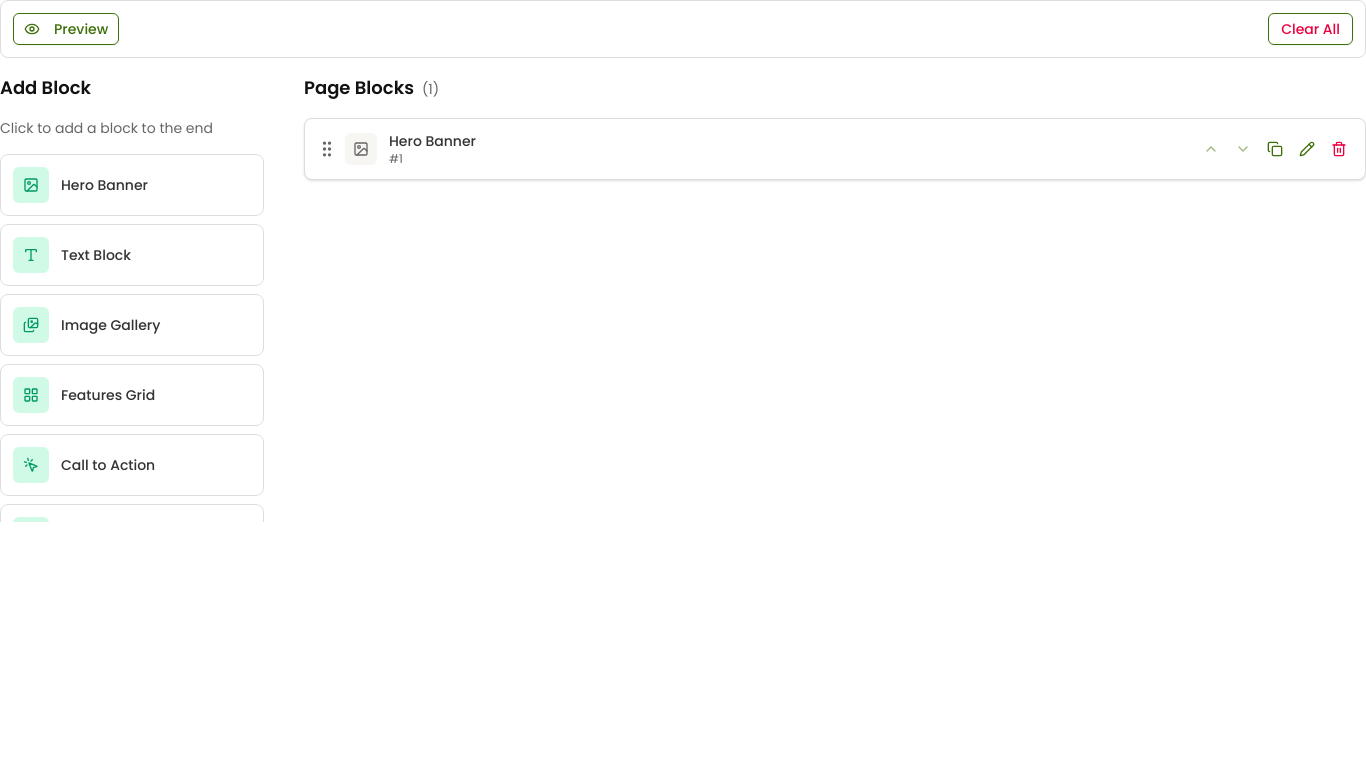
Test: Bug Condition Exploration: CMS Block Data Display in Admin UI › Property 1: Bug Condition - Regular Block Fields Should Display Actual Content › should display hero block title and subtitle in UI editor fields when block has populated data
Note: Open the block for editing
Click the button titled "Edit Block": x=1307, y=149 [1293,135,1321,163]
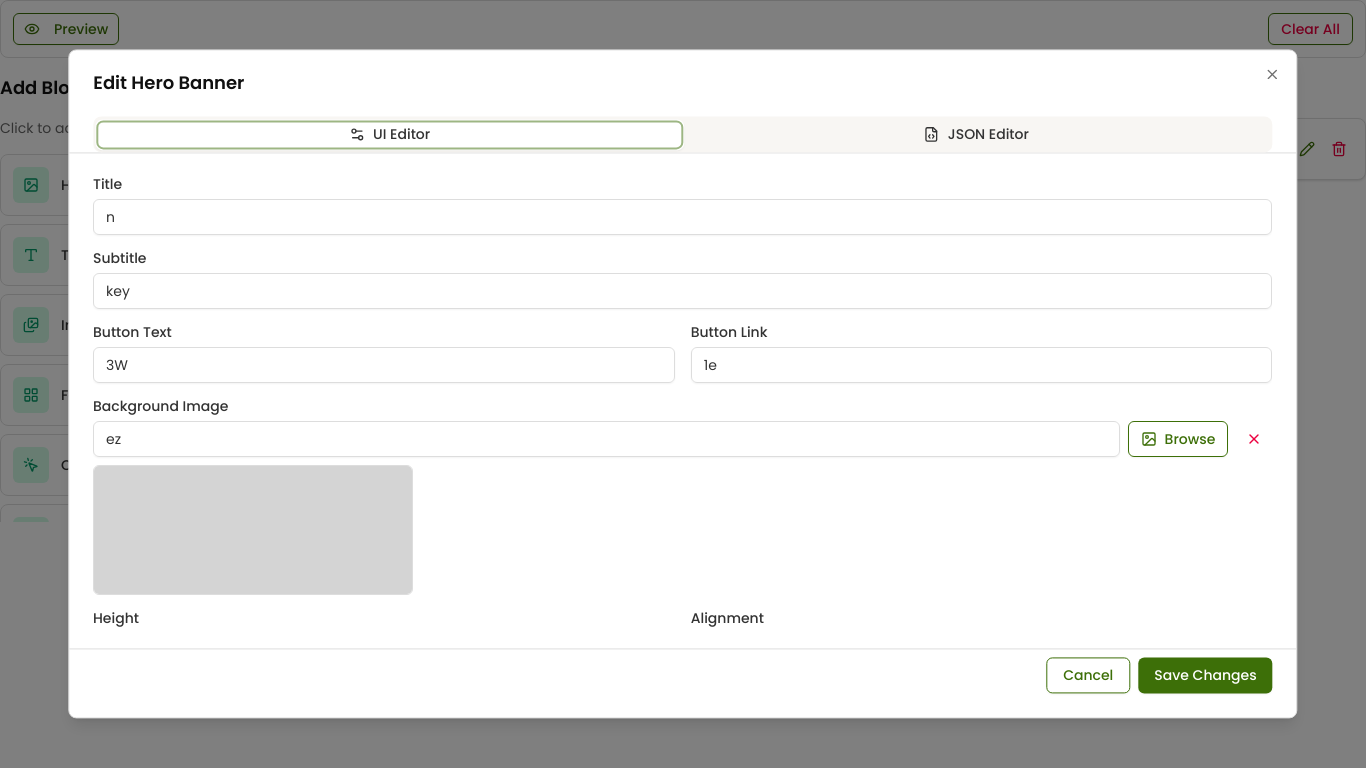
Now the 1st field showing "n" is shown, box [93,199,1273,235]
Now the field showing "key" below "Subtitle" is shown, box [93,273,1273,309]
